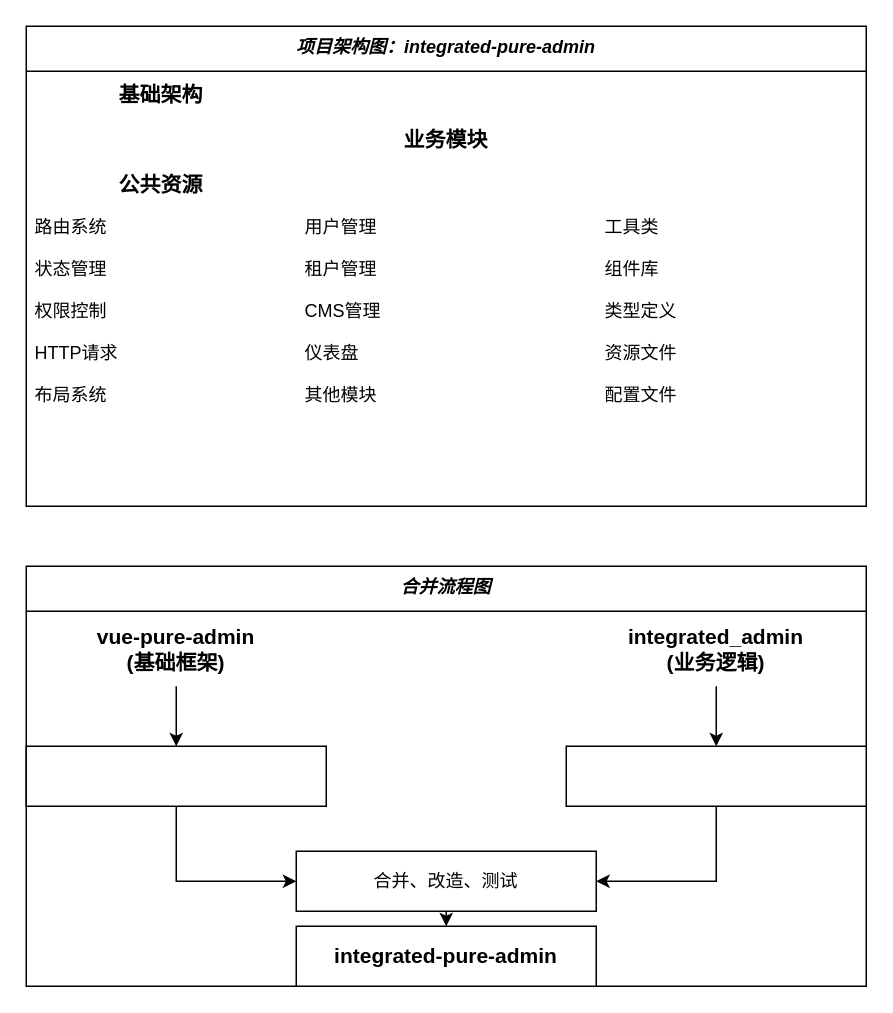
This 893x1013 diagram has some shape labels left out. Each missing label, with the centre of its shape:
"业务模块、API接口" goes at point (715, 775).
"架构、组件、工具" goes at point (175, 775).
